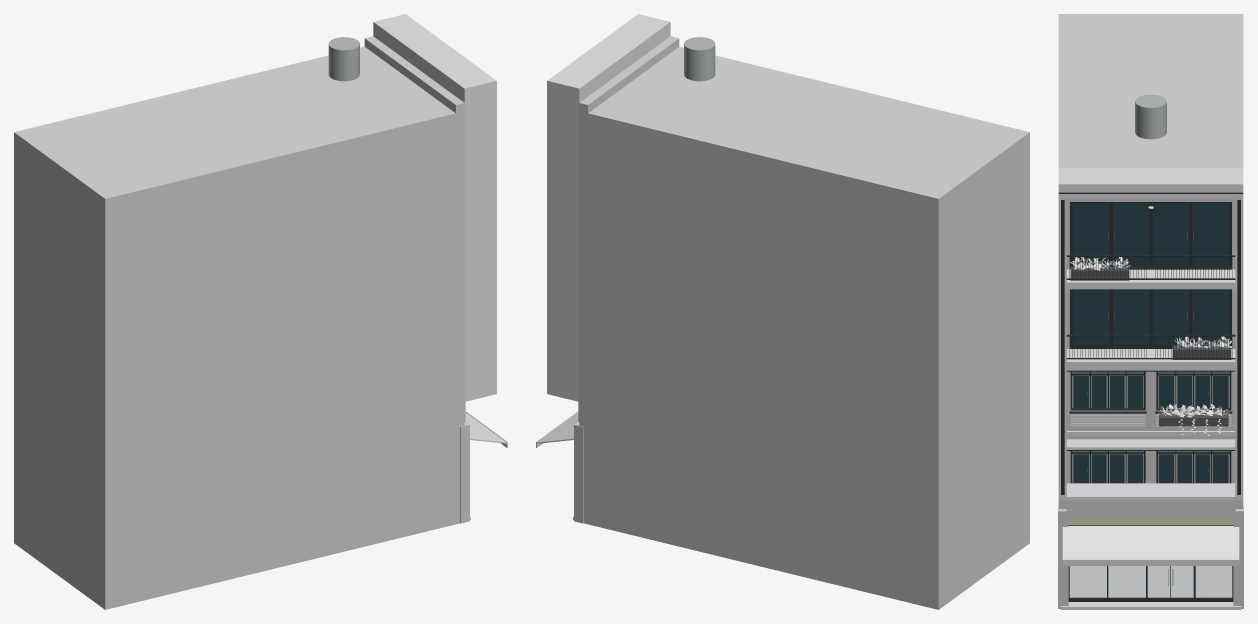
The model's file is OW_Mau_NhaPho_7_0_2_B.fbx.
The picture shows the model from 3 angles, left to right: view 1: azimuth 30°, elevation 25°; view 2: azimuth 150°, elevation 25°; view 3: azimuth 270°, elevation 25°; orthographic projection.
Visible parts, largest first — view 1: OW_NhaPho_9037; view 2: OW_NhaPho_9037; view 3: OW_NhaPho_9037, OW_MatTienKinh.
Boxes of the visible parts, bbox=[...] form: OW_NhaPho_9037: bbox=[14, 14, 507, 609]; OW_NhaPho_9037: bbox=[536, 14, 1029, 609]; OW_NhaPho_9037: bbox=[1058, 14, 1243, 609]; OW_MatTienKinh: bbox=[1068, 518, 1233, 601].
Size of the model in its own units: 17.77 by 19.45 by 7.
